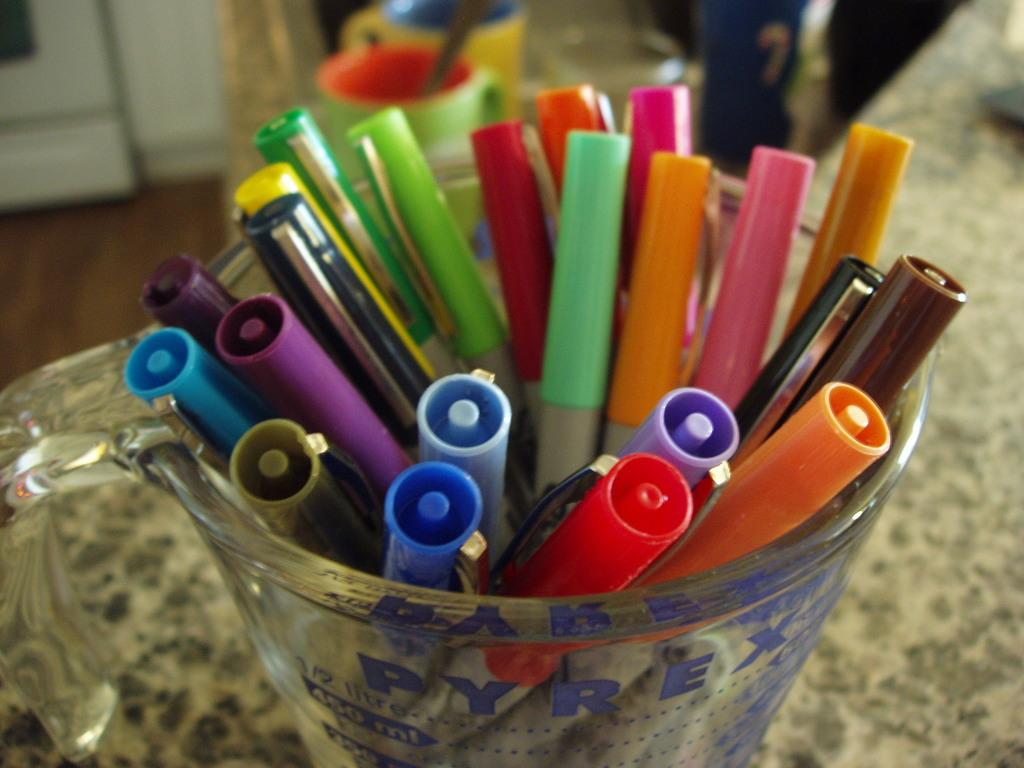pen: (124, 73, 968, 748)
